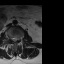CCS_normal: (14, 35, 16, 43)
LFS_normal: (18, 36, 20, 42)
LLS_normal: (16, 35, 18, 43)
RFS_normal: (10, 35, 12, 42)
RLS_normal: (12, 35, 14, 42)
